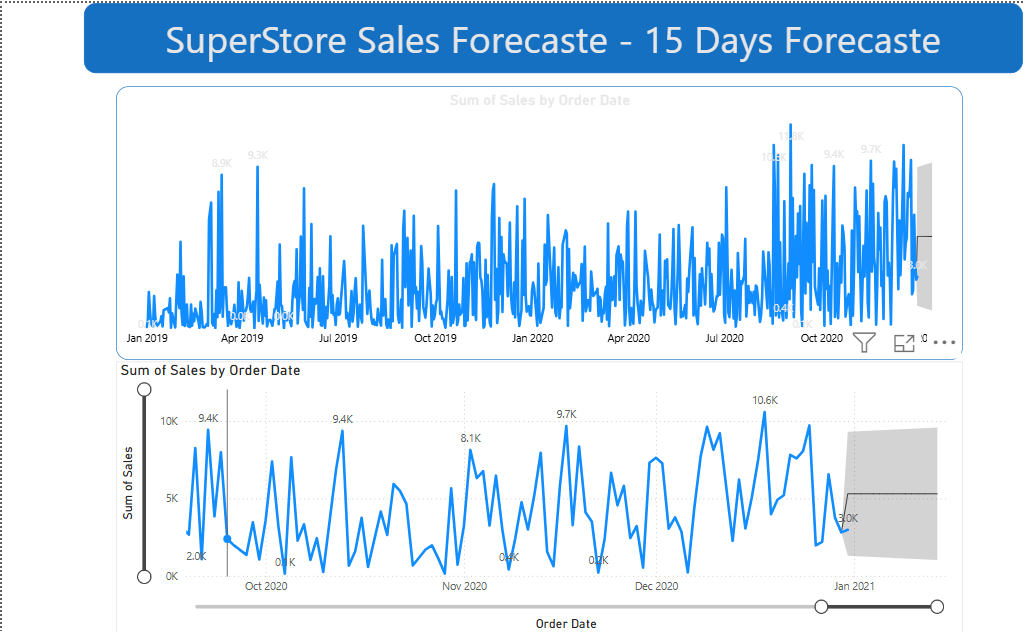

The page's visual inventory and layout, read from the dashboard file:
{"tool":"powerbi","page":{"name":"Page 2","canvas":[1280,720],"ordinal":1},"visuals":[{"type":"lineChart","fields":{"Y":["Sum(SuperStore_Sales_Dataset.Sales)"],"Category":["SuperStore_Sales_Dataset.Order Date"]},"box":[130,95,965,311.7],"z":0},{"type":"lineChart","fields":{"Y":["Sum(SuperStore_Sales_Dataset.Sales)"],"Category":["SuperStore_Sales_Dataset.Order Date"]},"box":[130,408.3,965,311.7],"z":1000},{"type":"textbox","box":[93.3,0,1070,80],"z":2000}]}

Visuals, with their boxes on the page's 1280x720 design canvas (x1, y1, x2, y2). These are canvas units, not pixel positions in the 1025x632 screenshot, which may show the page scaled, cropped or inside an application window:
lineChart - Sum(SuperStore_Sales_Dataset.Sales) x SuperStore_Sales_Dataset.Order Date: BBox(130, 95, 1095, 407)
lineChart - Sum(SuperStore_Sales_Dataset.Sales) x SuperStore_Sales_Dataset.Order Date: BBox(130, 408, 1095, 720)
textbox: BBox(93, 0, 1163, 80)
